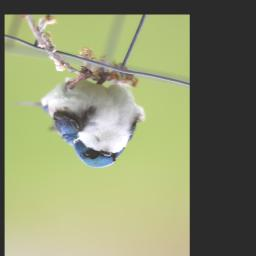Swallow: (11, 65, 147, 169)
